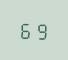nine: (33, 19, 46, 40)
six: (19, 19, 32, 39)
